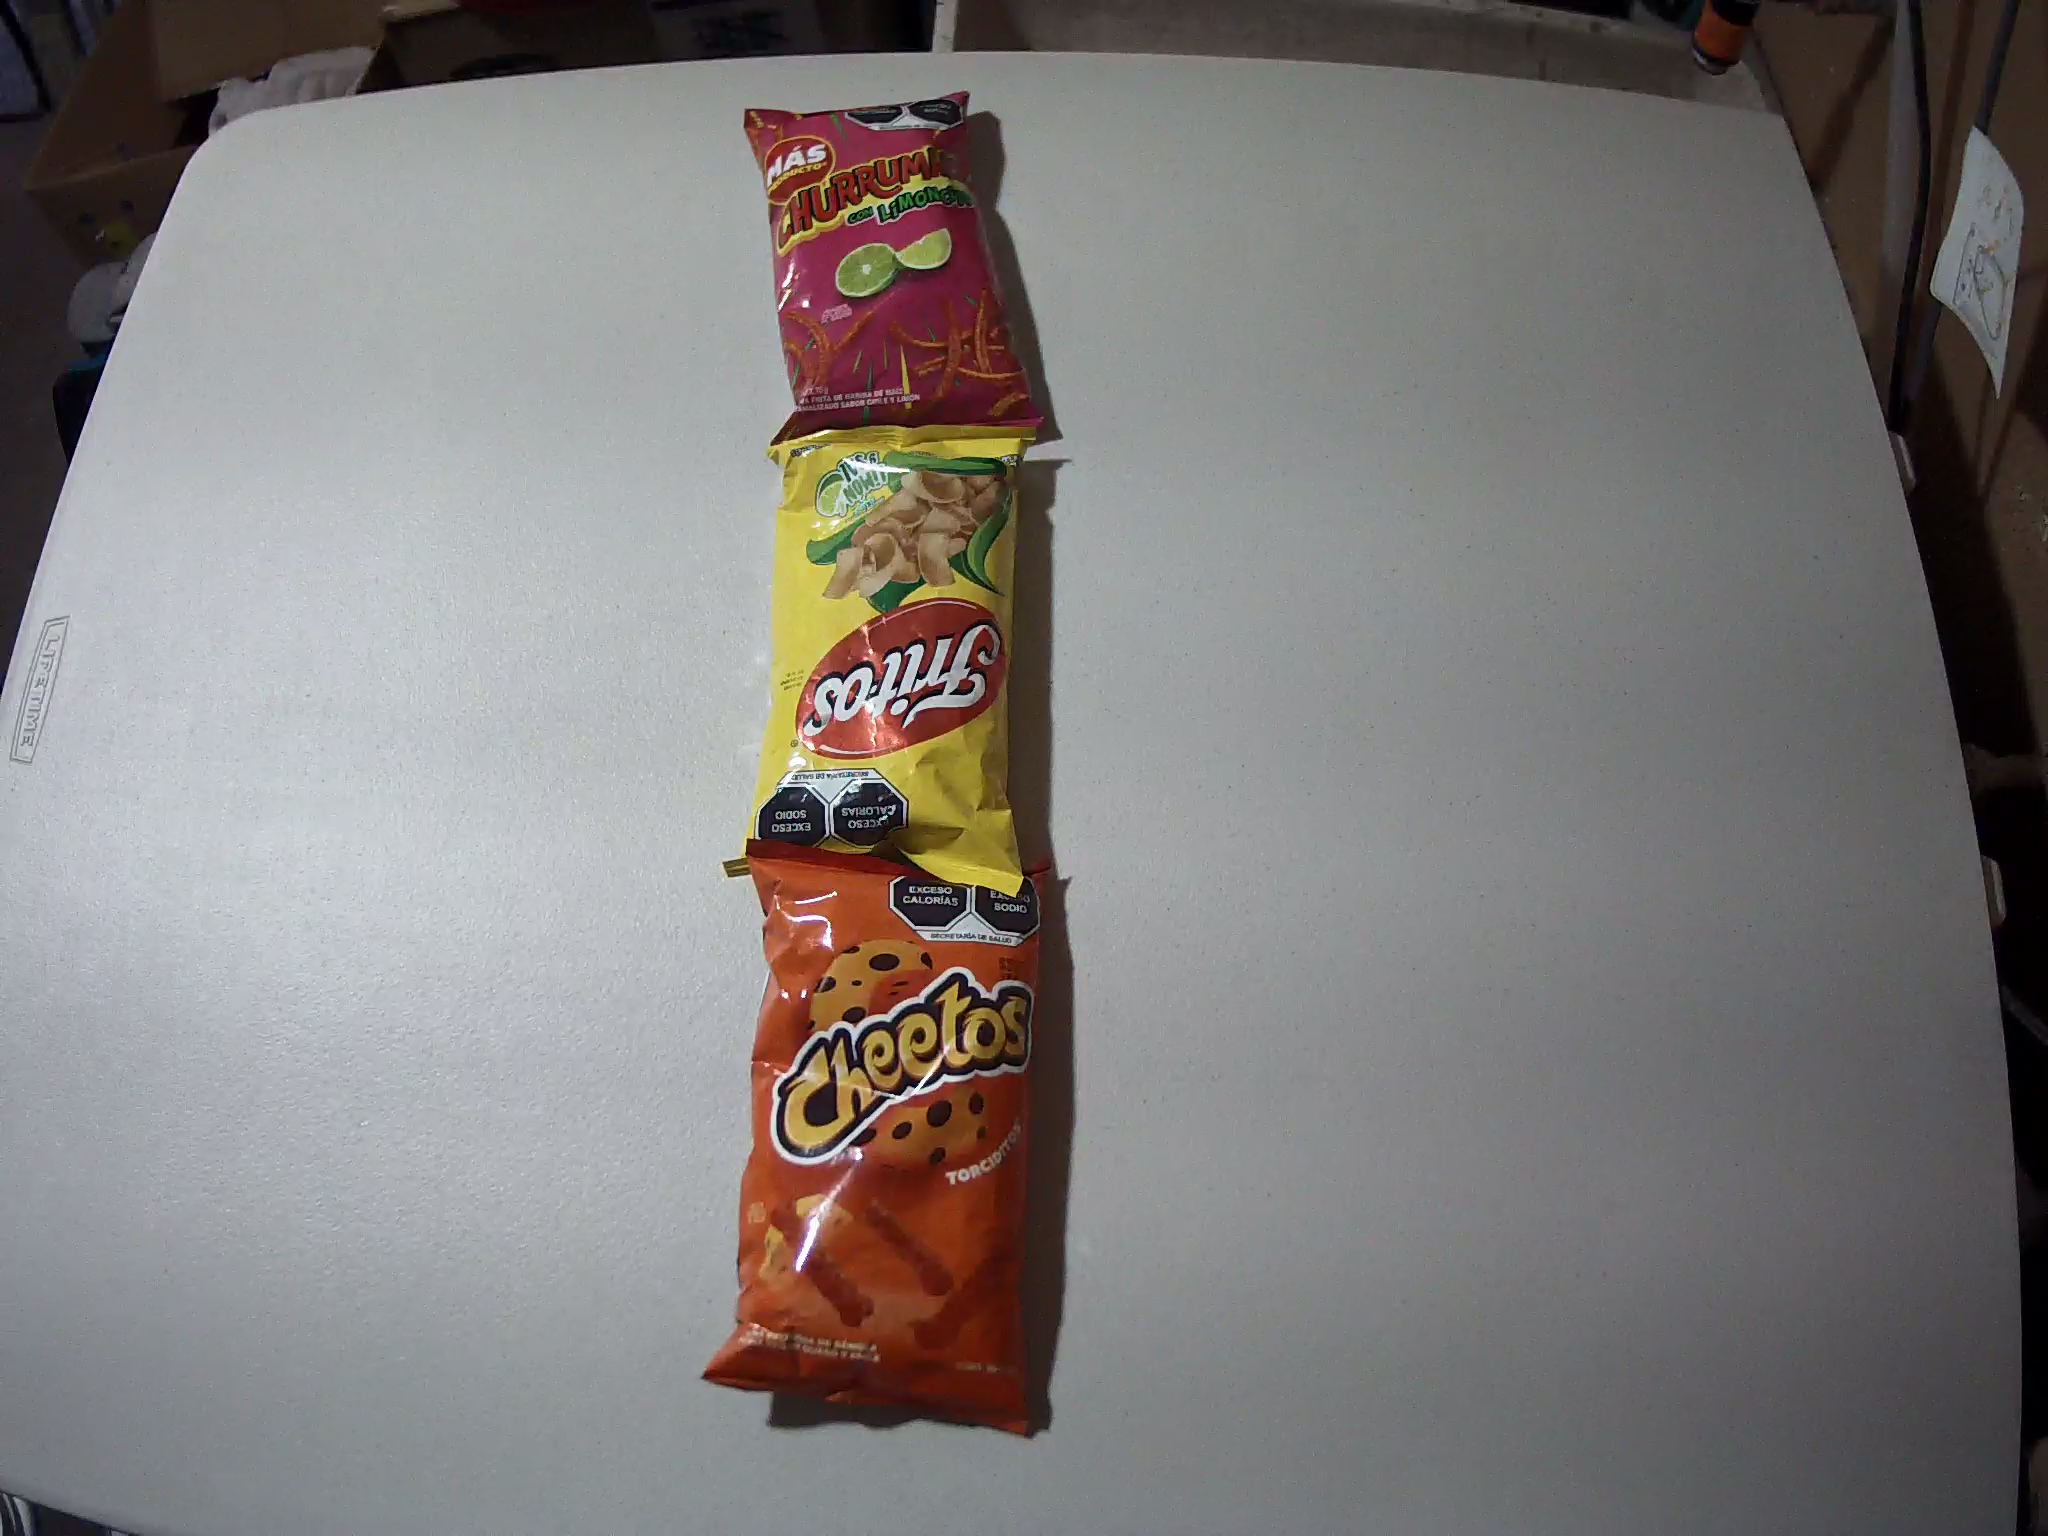CheetosTorciditos_55_F: (700, 837, 1053, 1439)
Churrumais_70_F: (743, 90, 1045, 444)
FritosSalLimon_65_F: (726, 423, 1035, 895)
